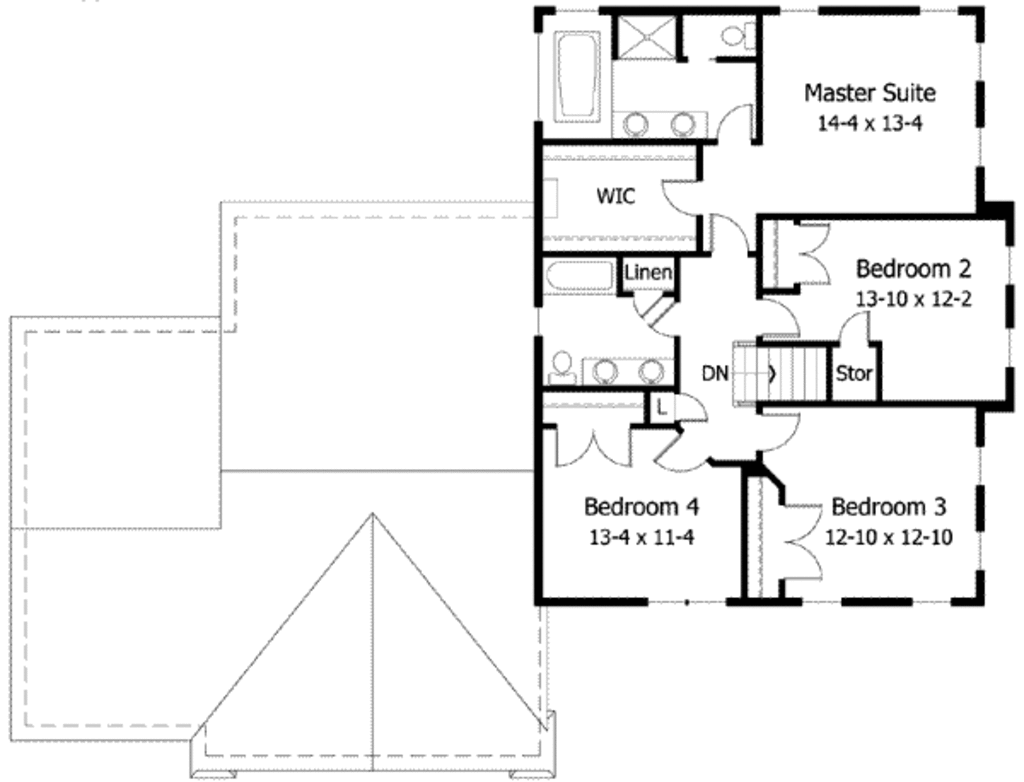door: (778, 501, 824, 583), (552, 424, 633, 469), (751, 294, 806, 345), (655, 428, 707, 477), (795, 219, 830, 290), (705, 210, 756, 254), (755, 408, 799, 455), (714, 104, 759, 144), (658, 178, 700, 218), (834, 309, 872, 349), (648, 301, 678, 344), (676, 392, 709, 425)
large_sink: (719, 16, 757, 54), (546, 349, 578, 388)
small_sink: (606, 105, 713, 144), (578, 359, 676, 389)
stairs: (701, 342, 833, 406)
tub: (550, 27, 603, 121), (536, 254, 619, 301)
windows: (969, 33, 990, 170), (969, 437, 988, 578), (638, 592, 735, 611), (901, 591, 959, 613), (797, 597, 844, 611)
